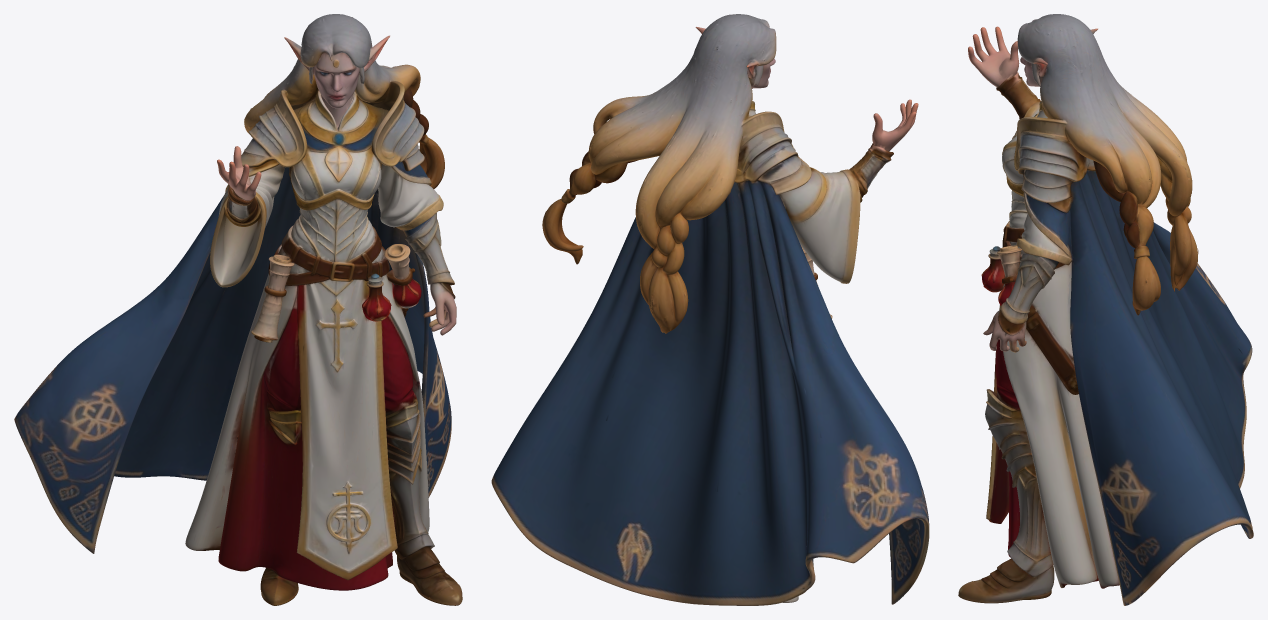
The model's file is half_elf_cleric_full_female_01.glb.
The picture shows the model from 3 angles, left to right: view 1: azimuth 30°, elevation 25°; view 2: azimuth 150°, elevation 25°; view 3: azimuth 270°, elevation 25°; orthographic projection. The views are drawn at different scales.
Visible parts, largest first — view 1: material; view 2: material; view 3: material.
Part boxes in pixels (x1,y1,x2,y2): material: (14,14,462,605); material: (491,14,929,605); material: (958,14,1253,605).
Size of the model in its own units: 0.803 by 1.02 by 0.4973.
Materials: 1 (1 with a texture image).
